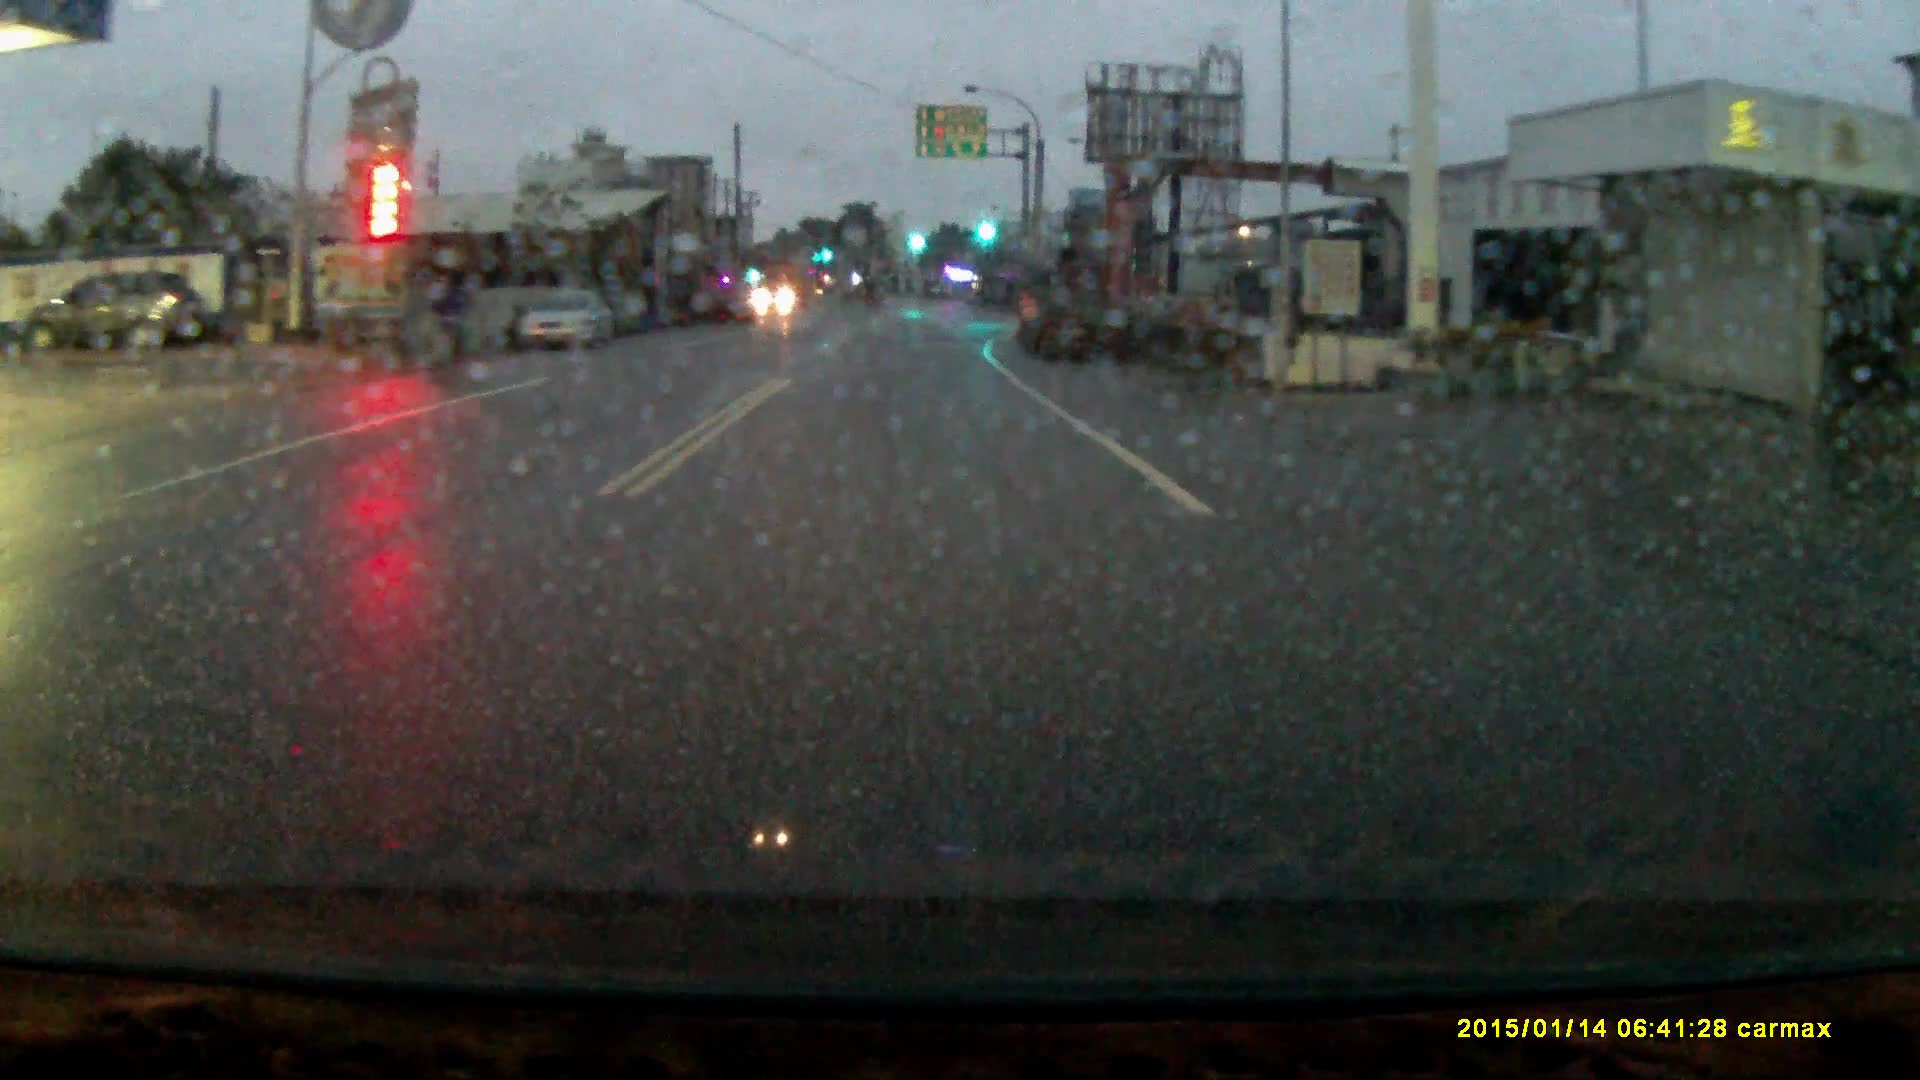rider: (384, 249, 488, 402)
vehicle: (8, 269, 203, 354), (1015, 267, 1105, 372), (516, 295, 631, 359)
